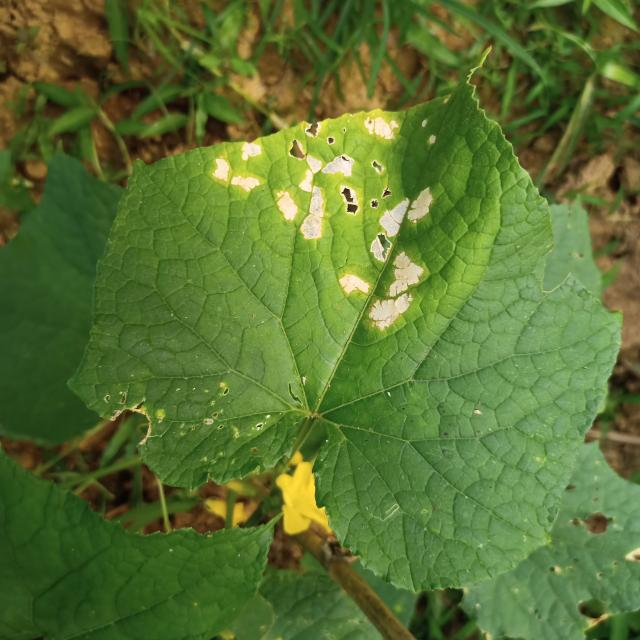disease_cucumber: (209, 111, 443, 344)
